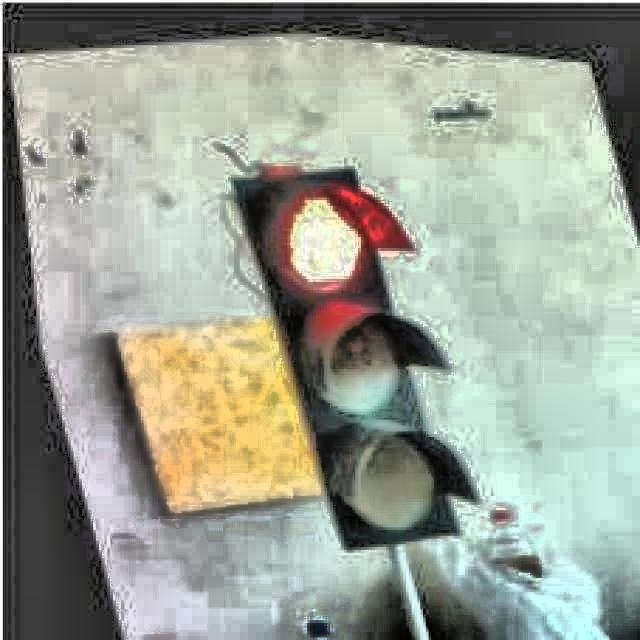red: (236, 168, 452, 539)
